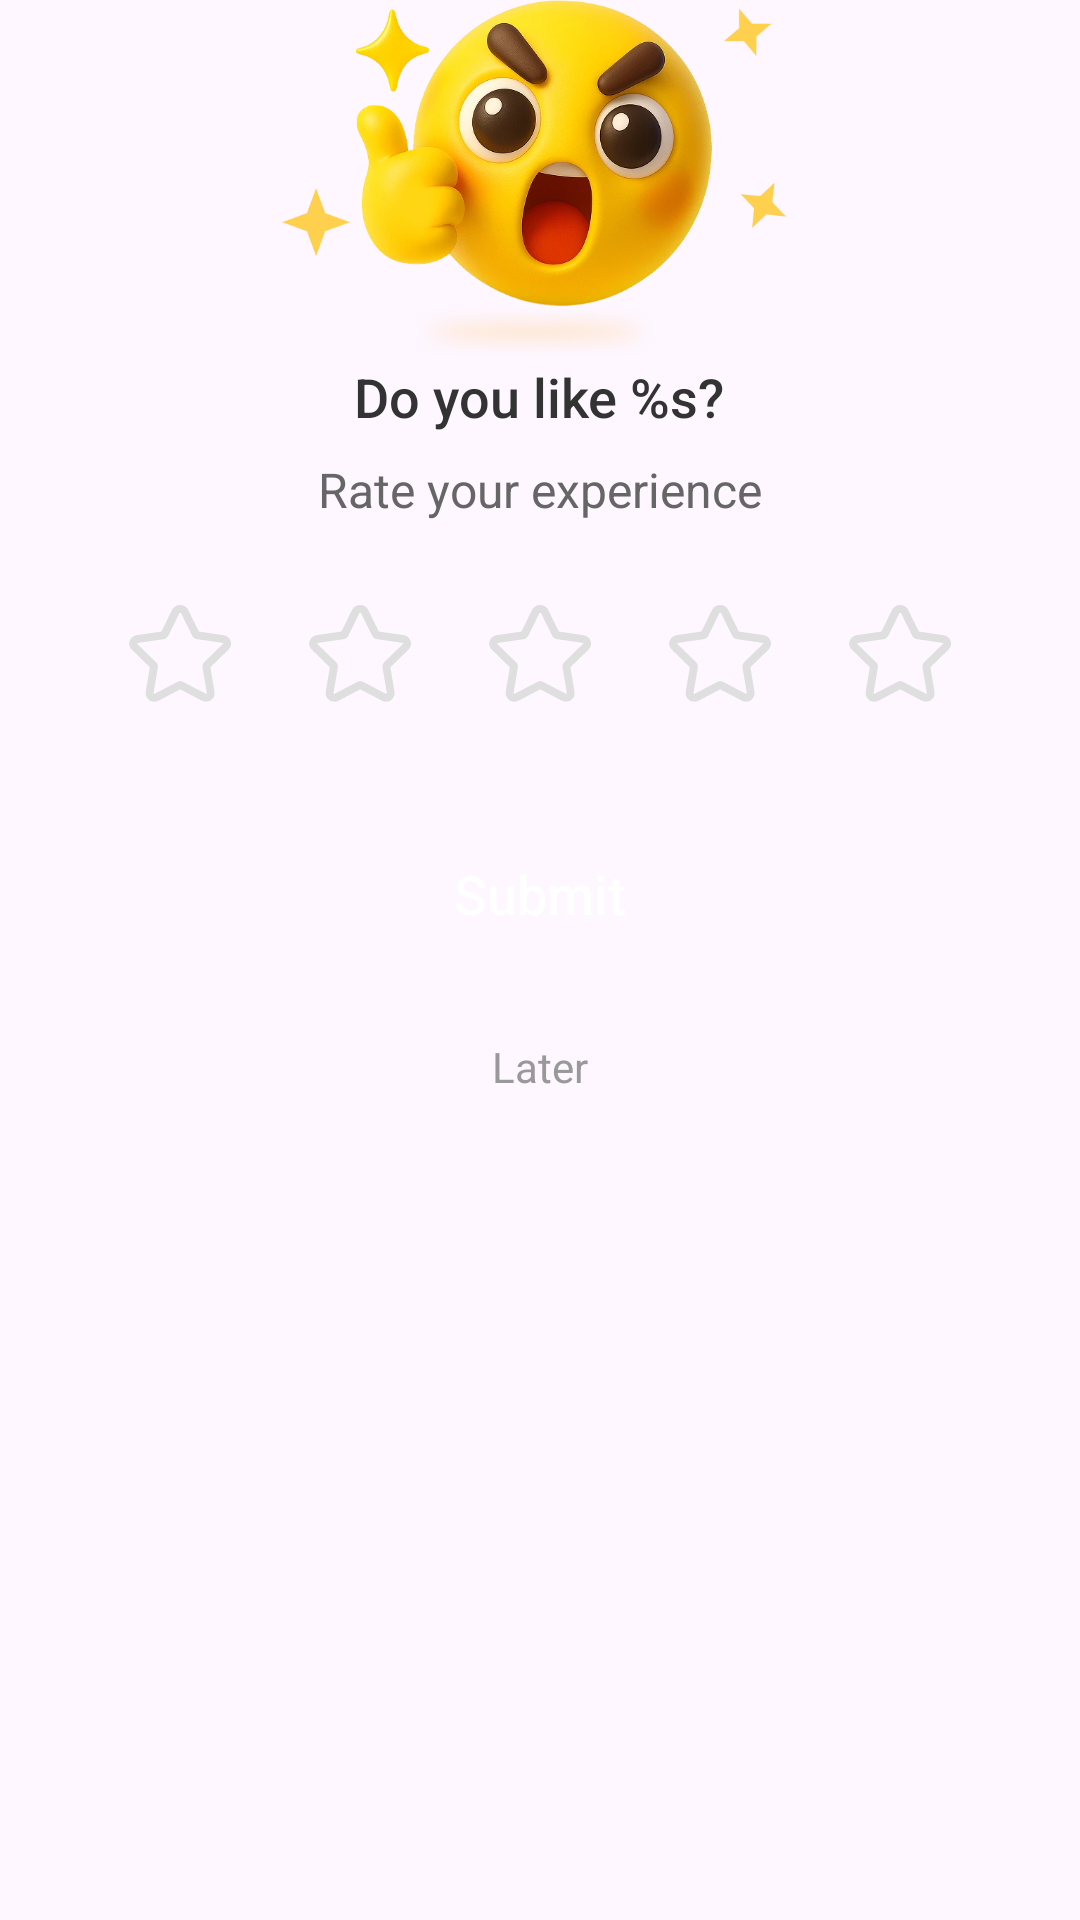

Where to tap for icons on this 1080 × 1920 app screen, as (x=x, y=y):
start unselect: (x=180, y=653), (x=360, y=653), (x=540, y=653), (x=720, y=653), (x=900, y=653)
